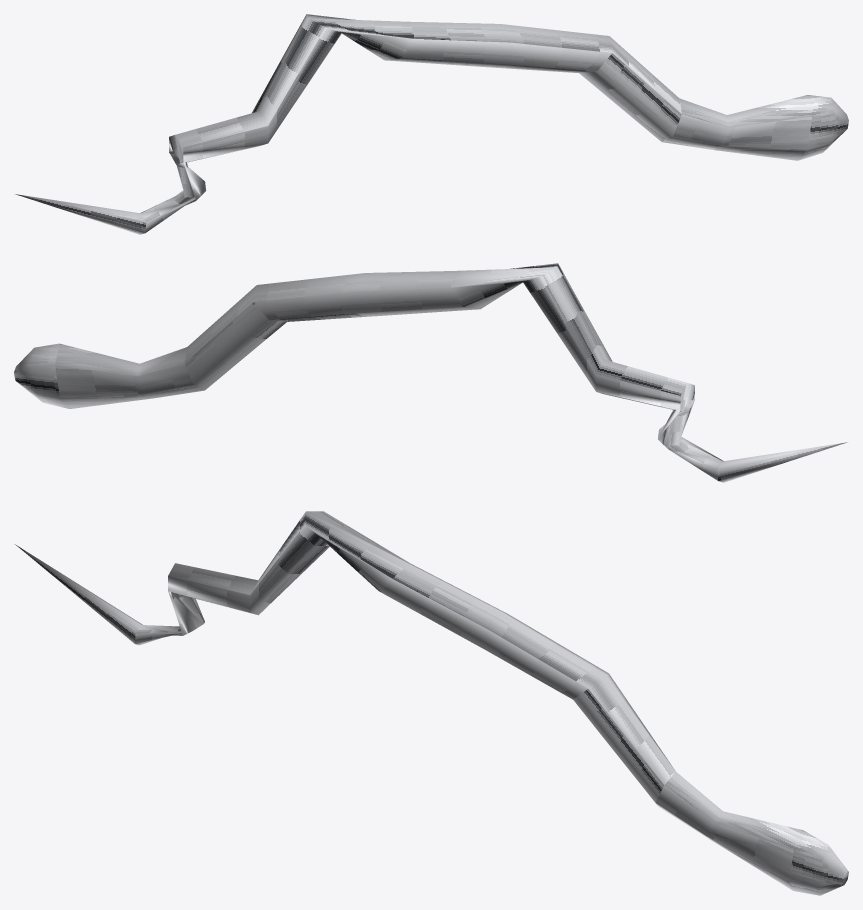
Rendered from snake_000011.obj.
The picture shows the model from 3 angles, top to bottom: view 1: azimuth 30°, elevation 25°; view 2: azimuth 150°, elevation 25°; view 3: azimuth 330°, elevation 25°; orthographic projection.
Parts seen in each view (by area): view 1: Cylinder; view 2: Cylinder; view 3: Cylinder.
Part boxes in pixels (<box>): Cylinder: <box>15,14,848,234</box>; Cylinder: <box>14,263,847,482</box>; Cylinder: <box>15,511,848,895</box>.
Size of the model in its own units: 8.49 by 2.55 by 0.3671.
